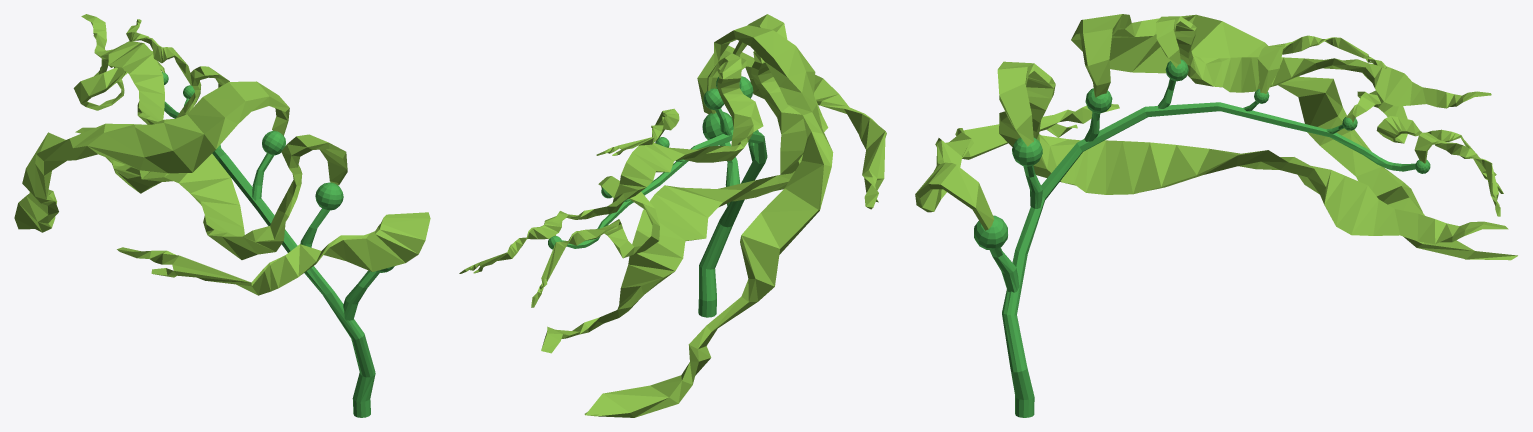
File: Kelp by Christopher F - 3VhttTFyADO.glb
3 renders of one model, left to right at view 1: azimuth 30°, elevation 25°; view 2: azimuth 150°, elevation 25°; view 3: azimuth 270°, elevation 25°, orthographic. The views are drawn at different scales.
Parts seen in each view (by area): view 1: group613521845, group490092115; view 2: group613521845, group490092115; view 3: group613521845, group490092115.
Part boxes in pixels (x1,y1,x2,y2): group613521845: (14, 14, 430, 295); group490092115: (162, 72, 394, 417); group613521845: (459, 14, 886, 417); group490092115: (548, 76, 767, 317); group613521845: (915, 14, 1517, 260); group490092115: (974, 59, 1430, 417).
Size of the model in its own units: 0.8115 by 1 by 1.55.
